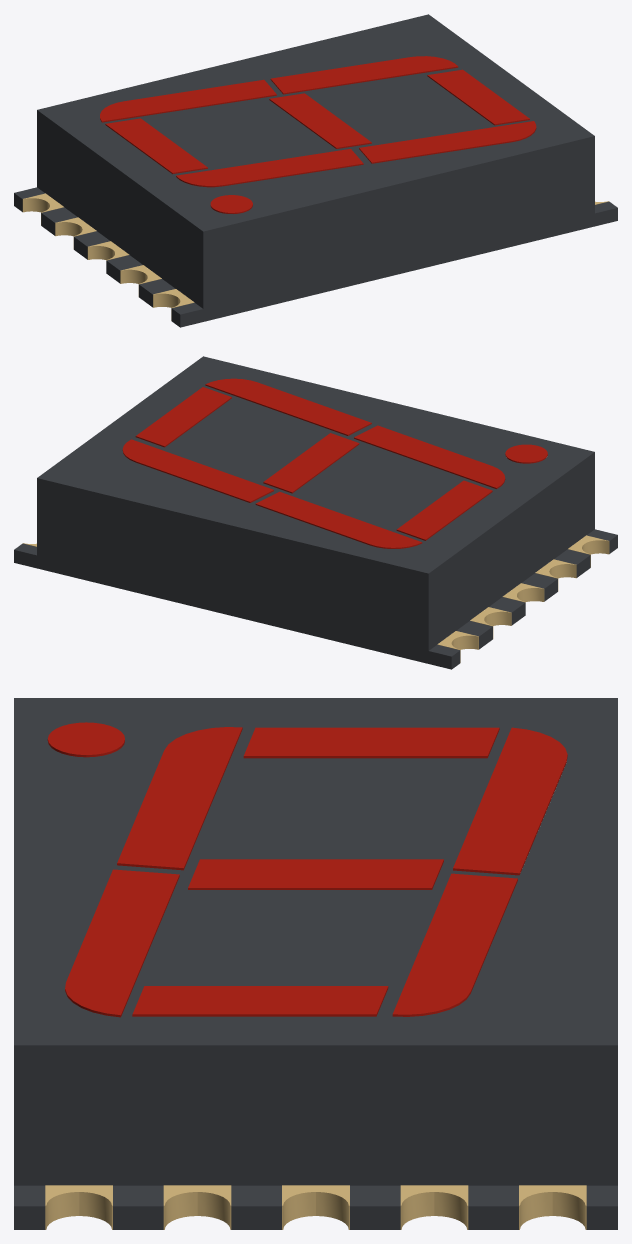
The model's file is kc-7segment-led_hdsm531_hdsm533_smd.glb.
3 renders of one model, top to bottom at view 1: azimuth 30°, elevation 25°; view 2: azimuth 150°, elevation 25°; view 3: azimuth 270°, elevation 25°, orthographic. The views are drawn at different scales.
Visible parts, largest first — view 1: 0.08333333333333333_0.08333333333333333_0.08333333333333333_, 0.4166666666666667_0_0_0, 0.75_0.5_0.25_0.9; view 2: 0.08333333333333333_0.08333333333333333_0.08333333333333333_, 0.4166666666666667_0_0_0, 0.75_0.5_0.25_0.9; view 3: 0.08333333333333333_0.08333333333333333_0.08333333333333333_, 0.4166666666666667_0_0_0, 0.75_0.5_0.25_0.9.
Part boxes in pixels (box(x1,y1,x2,y2)): 0.08333333333333333_0.08333333333333333_0.08333333333333333_: box(14, 14, 617, 327); 0.4166666666666667_0_0_0: box(100, 56, 536, 213); 0.75_0.5_0.25_0.9: box(22, 193, 609, 320); 0.08333333333333333_0.08333333333333333_0.08333333333333333_: box(14, 356, 617, 669); 0.4166666666666667_0_0_0: box(122, 378, 547, 548); 0.75_0.5_0.25_0.9: box(22, 535, 609, 662); 0.08333333333333333_0.08333333333333333_0.08333333333333333_: box(14, 698, 617, 1229); 0.4166666666666667_0_0_0: box(47, 722, 567, 1017); 0.75_0.5_0.25_0.9: box(45, 1185, 586, 1229).
Size of the model in its own units: 1.9 by 0.3801 by 1.25.
